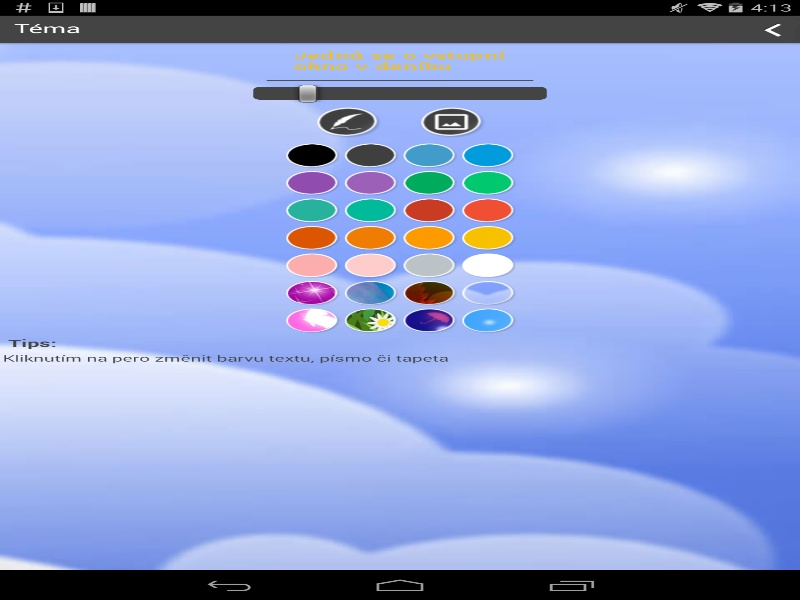Button: (0, 15, 752, 43), (296, 102, 400, 141), (400, 102, 504, 141), (0, 43, 800, 46), (282, 141, 341, 169), (282, 196, 341, 224), (282, 251, 341, 279), (282, 306, 341, 334), (341, 141, 400, 169), (341, 196, 400, 224), (341, 251, 400, 279), (341, 306, 400, 334), (458, 141, 517, 169), (458, 196, 517, 224), (458, 251, 517, 279), (458, 306, 517, 334), (400, 141, 458, 169), (400, 196, 458, 224), (400, 251, 458, 279), (400, 306, 458, 334), (282, 169, 341, 196), (282, 224, 341, 251), (282, 279, 341, 306), (341, 169, 400, 196), (341, 224, 400, 251), (341, 279, 400, 306), (458, 169, 517, 196), (458, 224, 517, 251), (458, 279, 517, 306), (400, 169, 458, 196), (400, 224, 458, 251), (400, 279, 458, 306), (752, 15, 800, 43), (266, 79, 533, 80)
Input: (280, 46, 520, 79)
